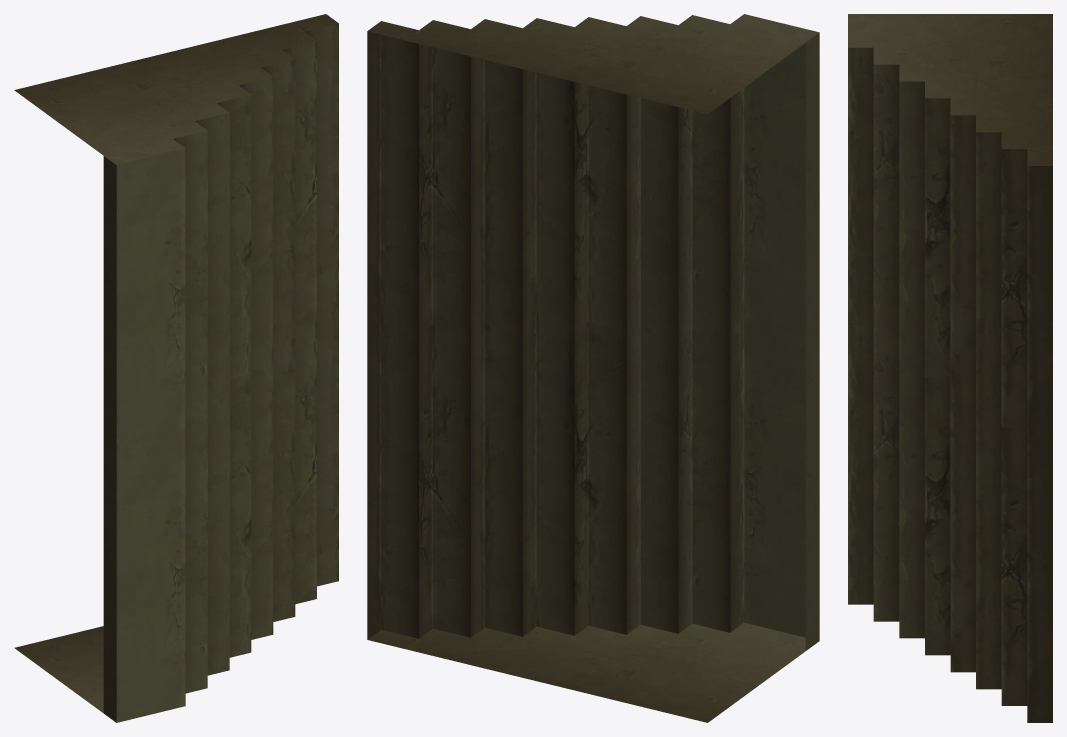
Rendered from qinhuangling_fuben_227_louti01.obj.
The picture shows the model from 3 angles, left to right: view 1: azimuth 30°, elevation 25°; view 2: azimuth 150°, elevation 25°; view 3: azimuth 270°, elevation 25°; orthographic projection. The views are drawn at different scales.
Visible parts, largest first — view 1: qinhuangling_fuben_227_louti01; view 2: qinhuangling_fuben_227_louti01; view 3: qinhuangling_fuben_227_louti01.
Part boxes in pixels (box(x1,y1,x2,y2)): qinhuangling_fuben_227_louti01: box(14, 14, 338, 722); qinhuangling_fuben_227_louti01: box(367, 14, 819, 722); qinhuangling_fuben_227_louti01: box(848, 14, 1052, 722).
Size of the model in its own units: 450 by 768 by 256.
Materials: 1 (1 with a texture image).
